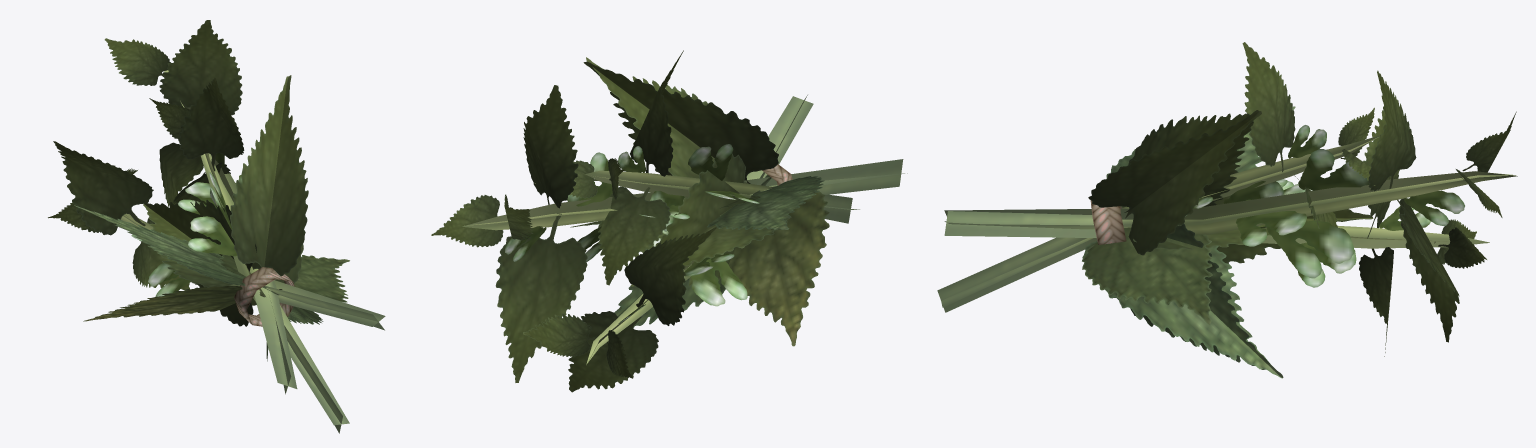
The model's file is village_nettle_02.fbx.
3 views of the same model, side by side, from view 1: azimuth 30°, elevation 25°; view 2: azimuth 150°, elevation 25°; view 3: azimuth 270°, elevation 25° (orthographic). The views are drawn at different scales.
Parts seen in each view (by area): view 1: village_nettle_02; view 2: village_nettle_02; view 3: village_nettle_02.
Boxes of the visible parts, x1,y1,x2,y2 form: village_nettle_02: [48, 20, 385, 433]; village_nettle_02: [431, 50, 907, 392]; village_nettle_02: [937, 42, 1517, 378].
Bounding box in the file's own units: 19.47 × 21.62 × 29.04.
